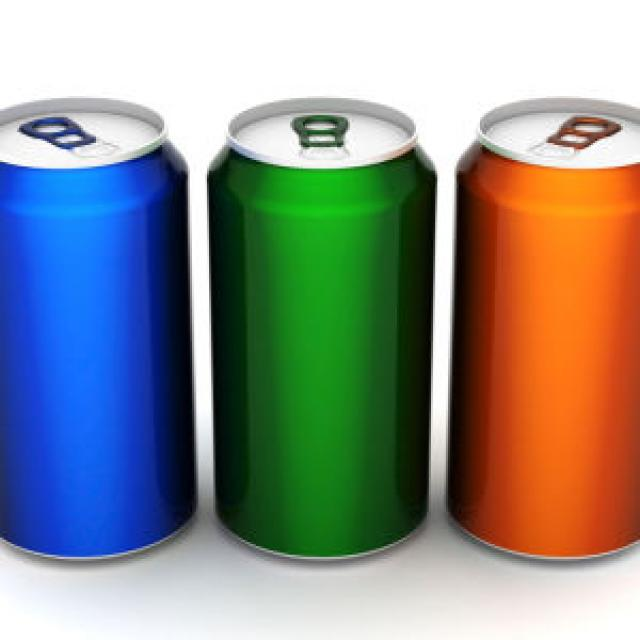non-organic waste: (204, 80, 442, 588), (2, 78, 201, 588), (443, 78, 640, 587)
